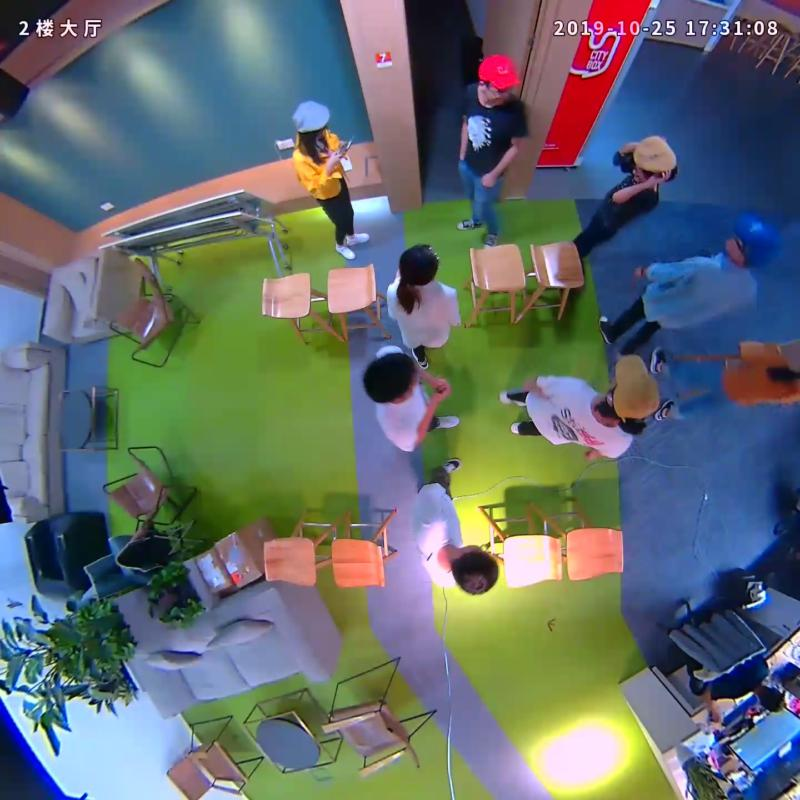head: (608, 354, 661, 421), (361, 351, 421, 405), (724, 211, 778, 270), (450, 545, 500, 595), (476, 52, 521, 105), (633, 136, 676, 185), (399, 242, 440, 285), (292, 98, 331, 140)
